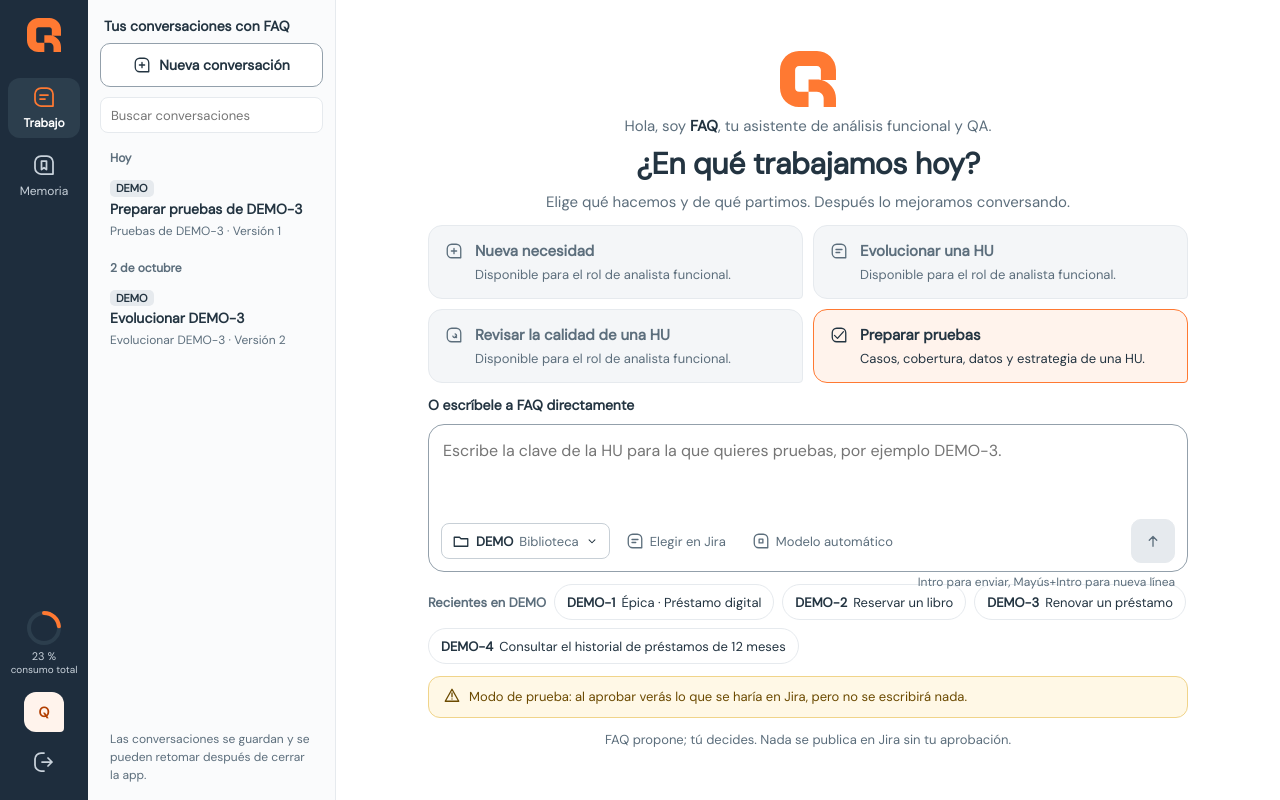
QA 4 · Recibo › cabecera de la suite, una casilla con las subtareas y los adjuntos, y el historial de la suite
Click the button "Preparar pruebas de DEMO-3": point(212, 210) x1=100 y1=171 x2=323 y2=248
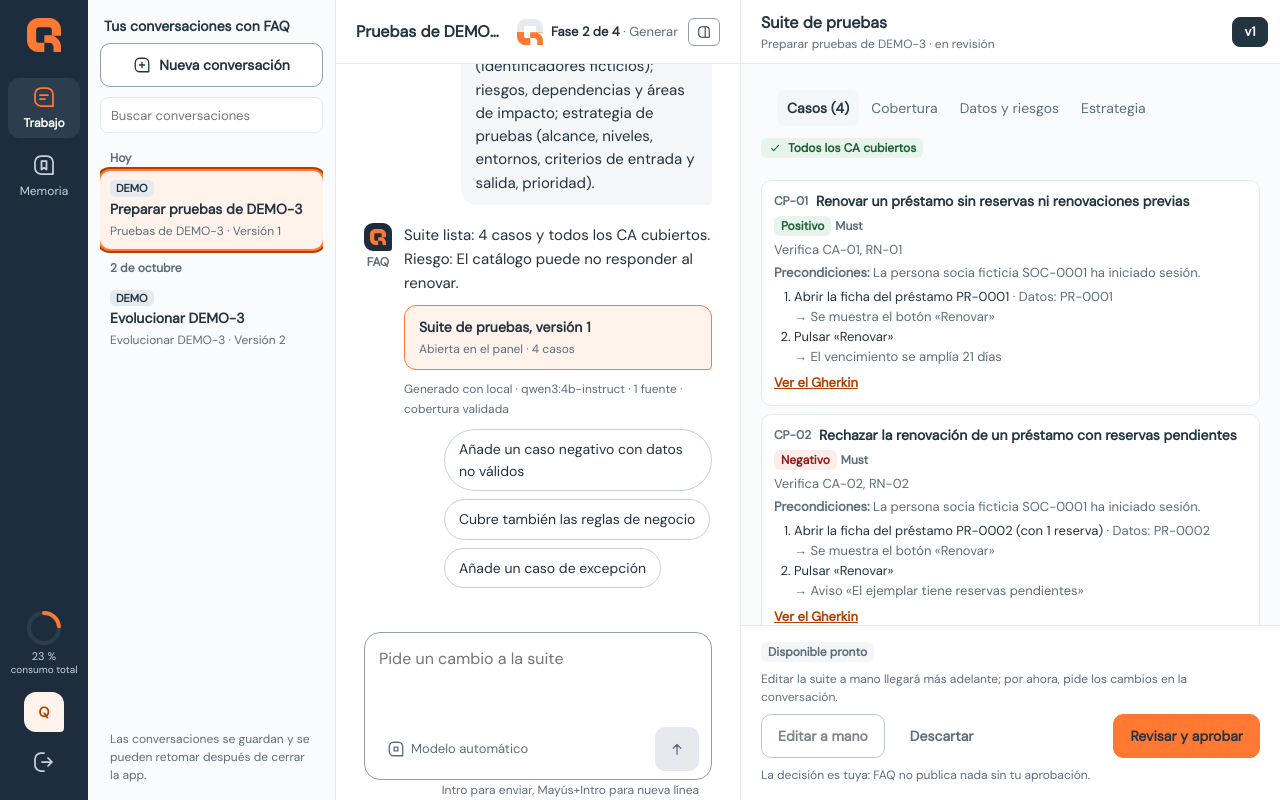
Expected: the element "Suite de pruebas" is shown, x1=740 y1=0 x2=1279 y2=799
Click the button "Revisar y aprobar": point(1187, 736) x1=1114 y1=714 x2=1260 y2=758
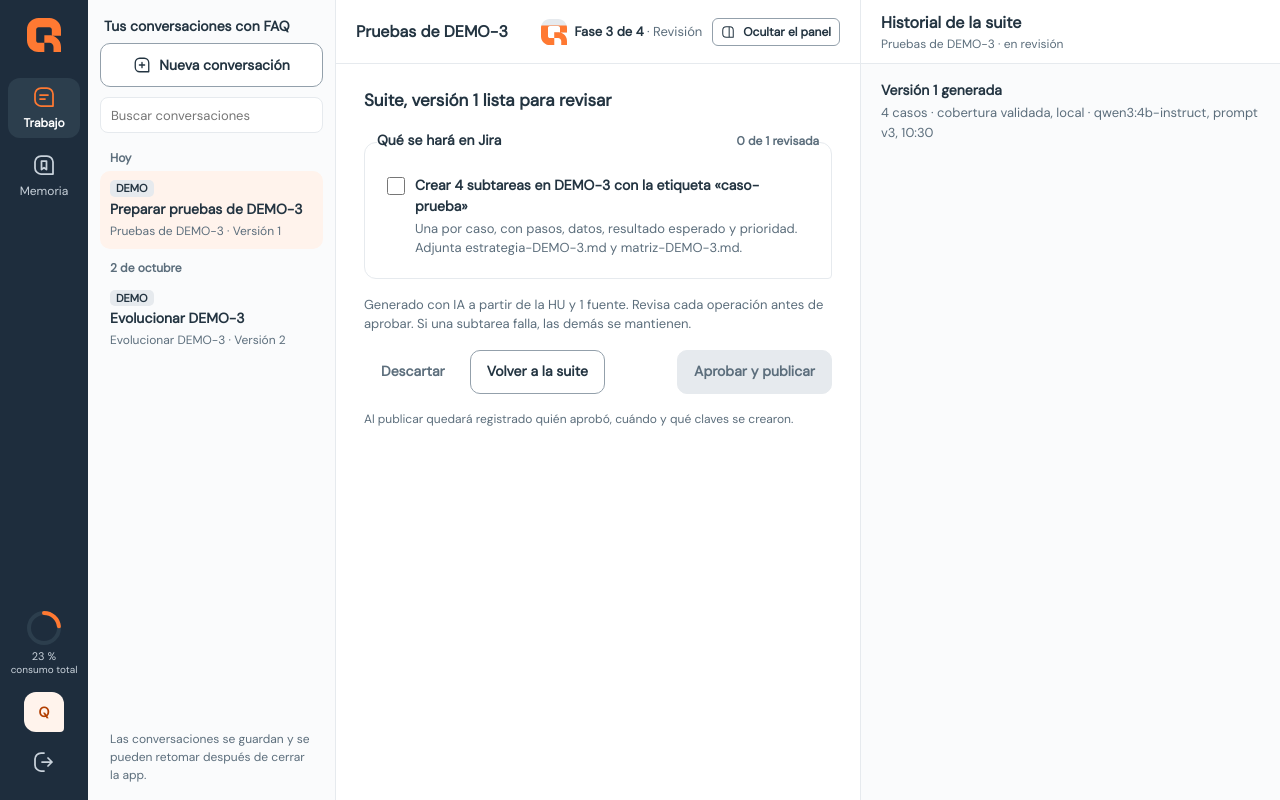
Expected: the heading "Pruebas de DEMO-3" is shown, x1=356 y1=20 x2=531 y2=44
Expected: the number of checkboxes is 1, x1=387 y1=176 x2=405 y2=194
Expected: the element "Qué se hará en Jira" shows "Crear 4 subtareas en DEMO-3 con la etiqueta «caso-prueba»", x1=415 y1=176 x2=759 y2=214
